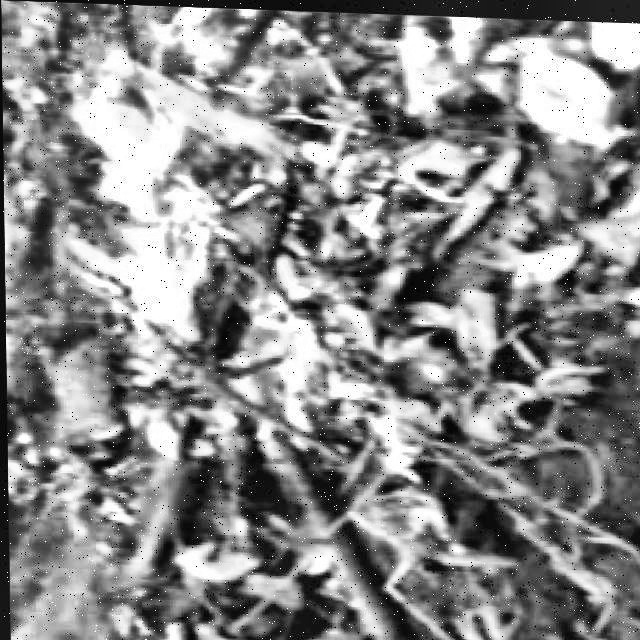Smoke: (74, 14, 353, 432)
